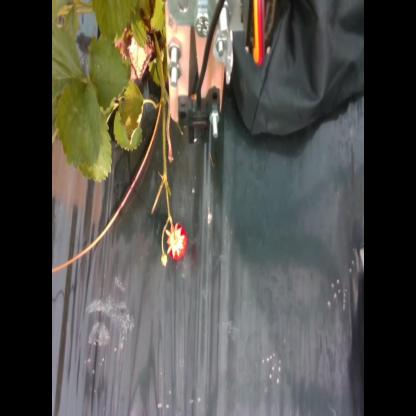ripe: (166, 224, 188, 271)
